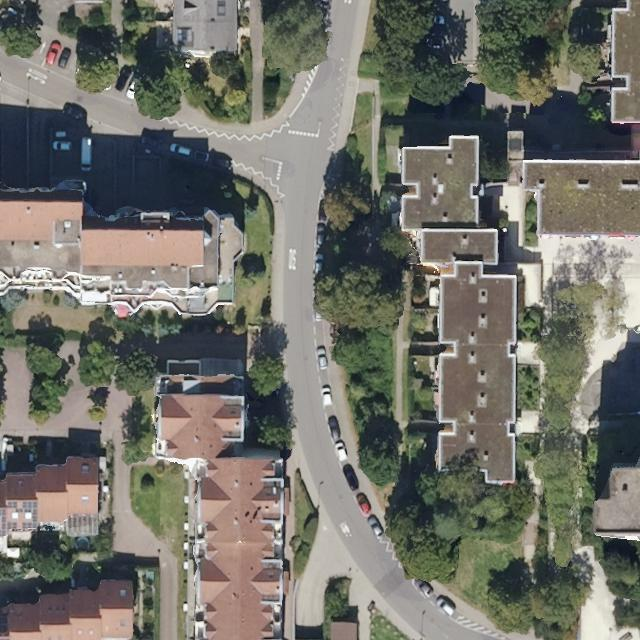PV: (21, 500, 39, 531), (0, 508, 8, 538), (5, 500, 20, 508), (8, 521, 18, 531)
